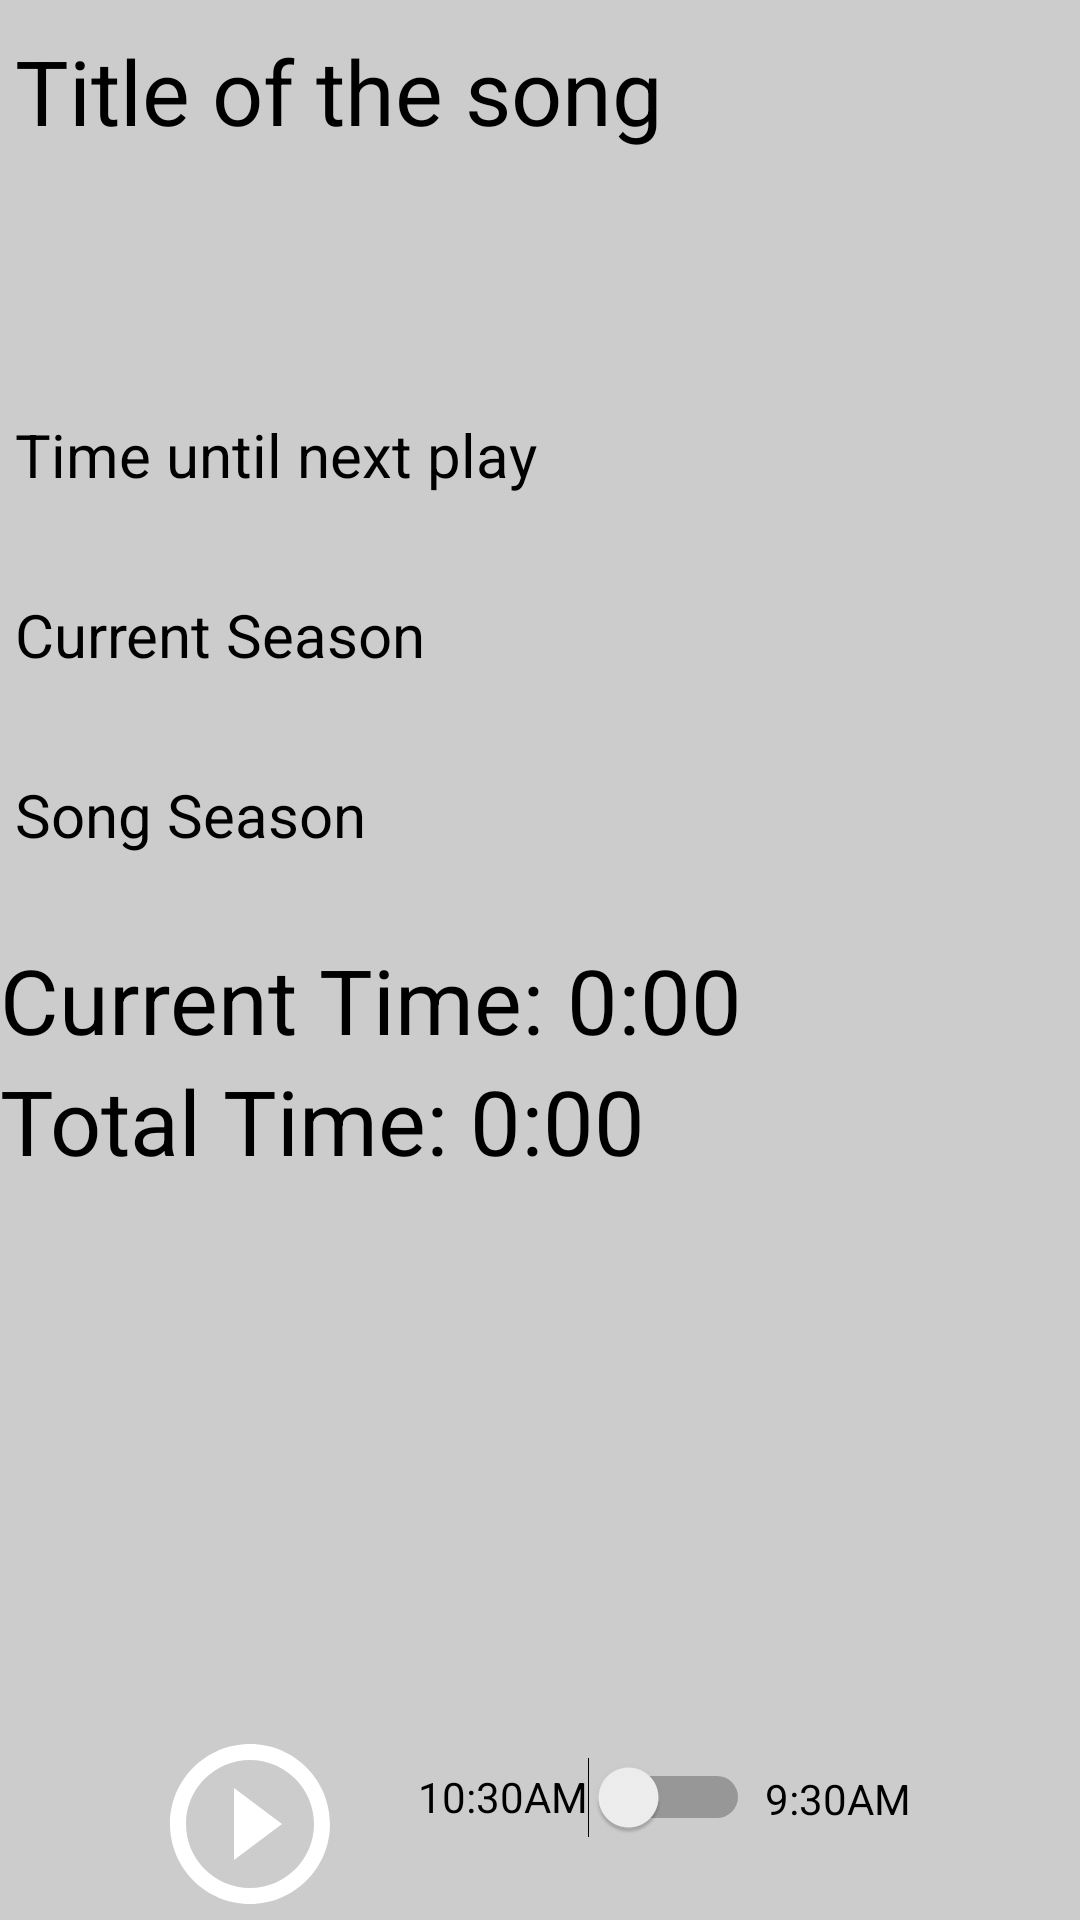

Icon click points for this 1080 × 1920 phone screenshot, format point (x, y):
Play Immediately: point (250, 1824)
